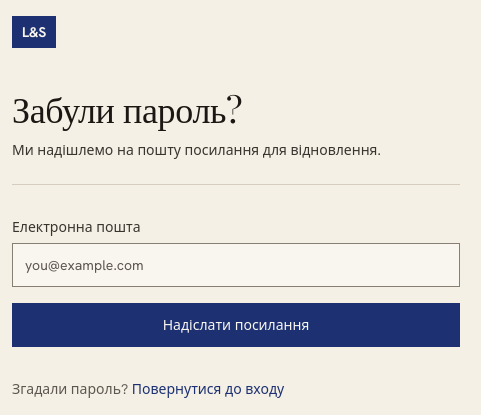
Test: ForgotPasswordPage › answers the same way whether or not the address is registered
Type "nobody@example.com" into the field labelled "Електронна пошта".
click(236, 265); type("nobody@example.com")  # box [12, 243, 460, 287]
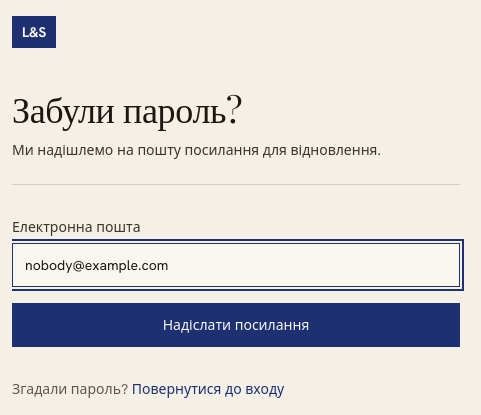
Click the button "Надіслати посилання".
click(236, 325)  # box [12, 303, 460, 347]
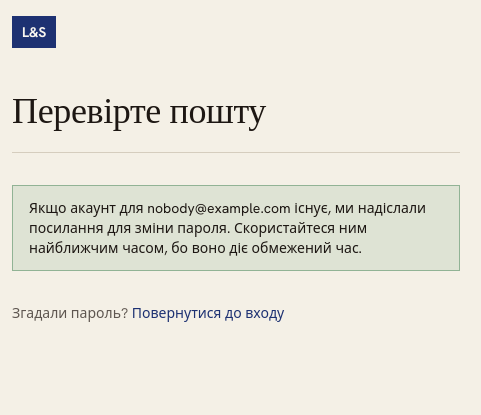
Result: the heading "Перевірте пошту" is shown at [12, 84, 266, 132]
